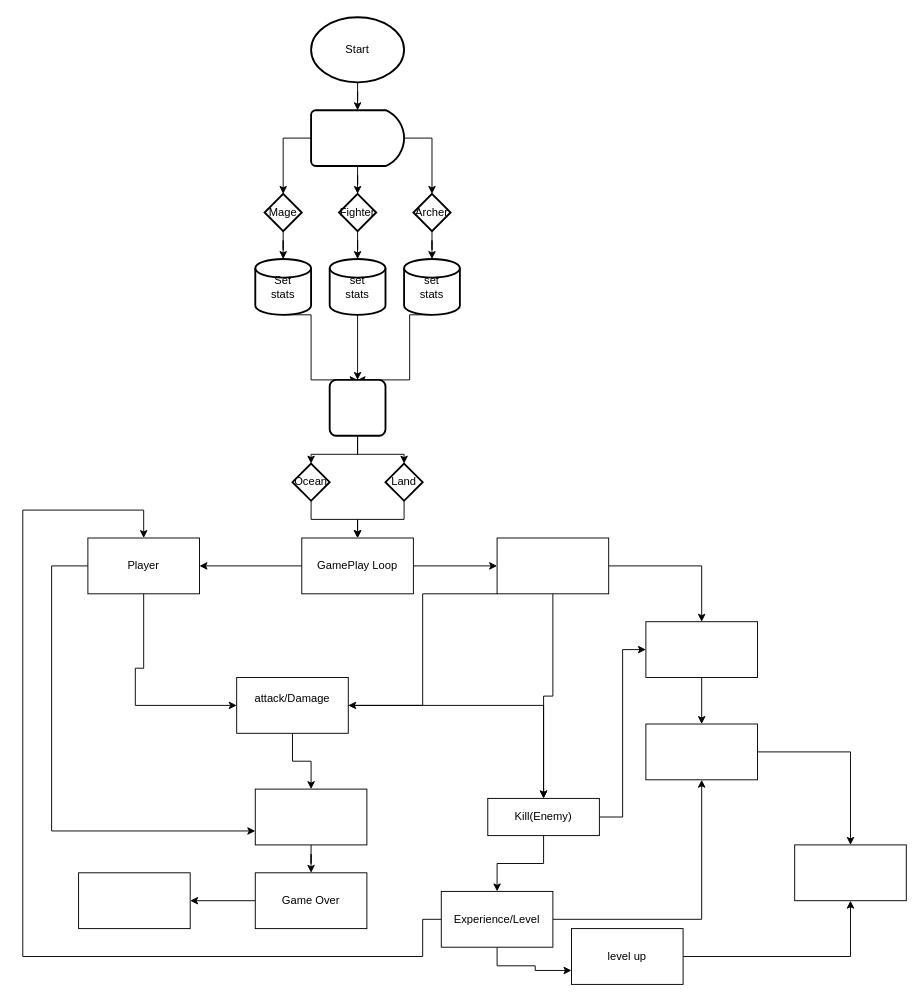
Some shapes in this 923 by 1001 pixel diagram are drawn without their labels. The shapes that lost their labels are listed below. From the top down, each one's box as (x1, y1, x2, y2) in pixels, then its label:
(310, 109, 405, 166): Chose Class
(328, 379, 386, 436): Choose Map
(496, 537, 609, 594): Enemies
(645, 621, 757, 678): drop Items
(645, 723, 757, 780): Affect stats
(254, 788, 367, 845): Dead(Player)
(794, 844, 906, 901): Gain Ability
(78, 872, 190, 929): Save Score
